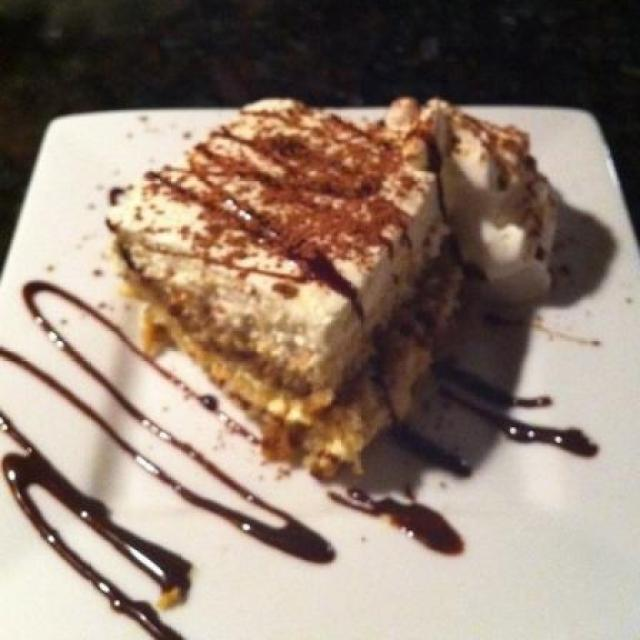Tiramisu: (110, 88, 577, 516)
